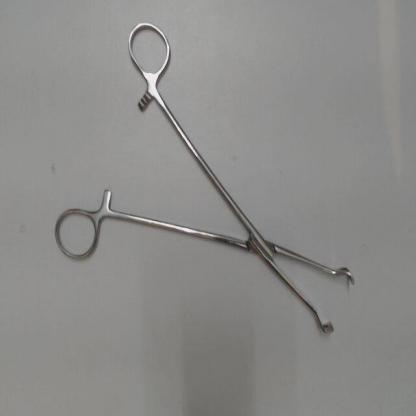8 Babcock Tissue Forceps: (47, 15, 360, 344)
